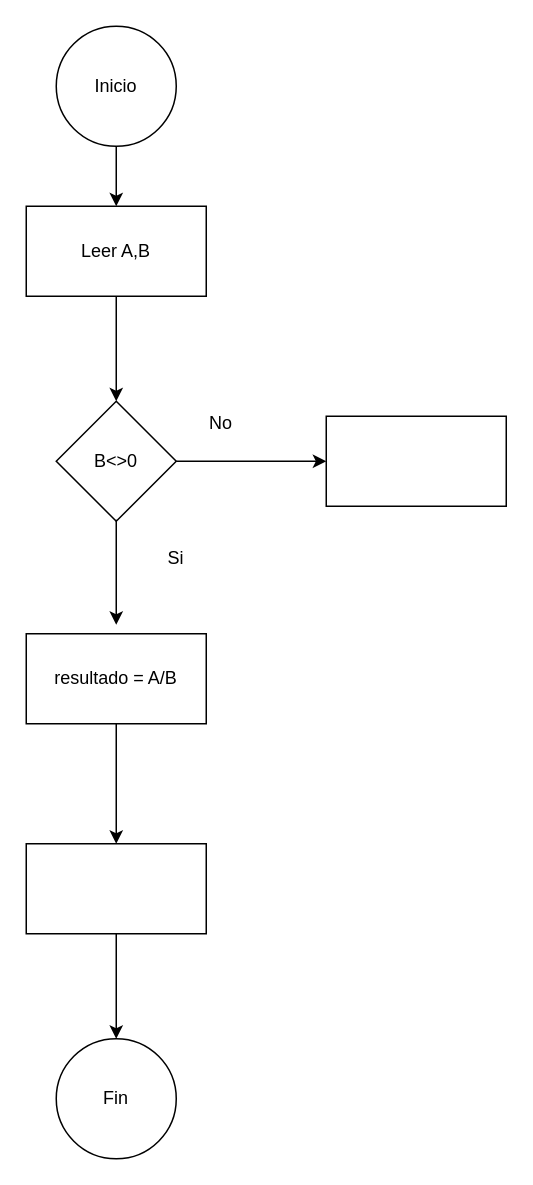
Some shapes in this 533 by 1185 pixel diagram are drawn without their labels. Each missing label, with the centre of its shape:
mostrar mensaje No se puede dividir por cero: (415,460)
mostrar resultado: (115,888)
